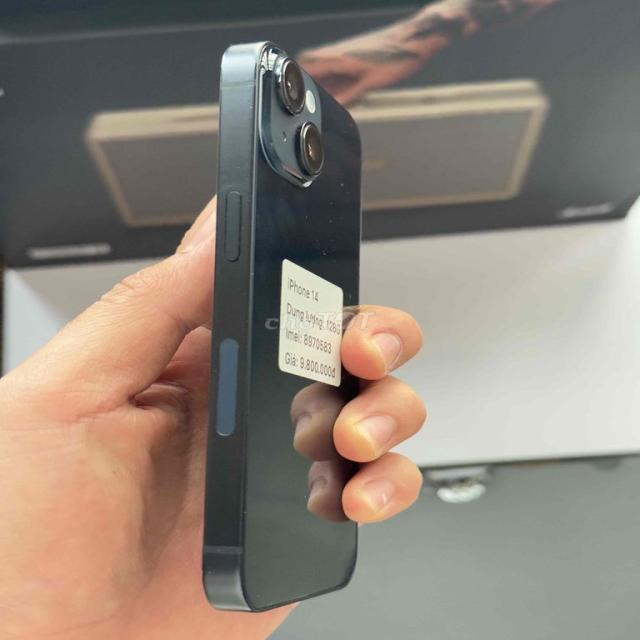gen_14: (202, 31, 400, 616)
